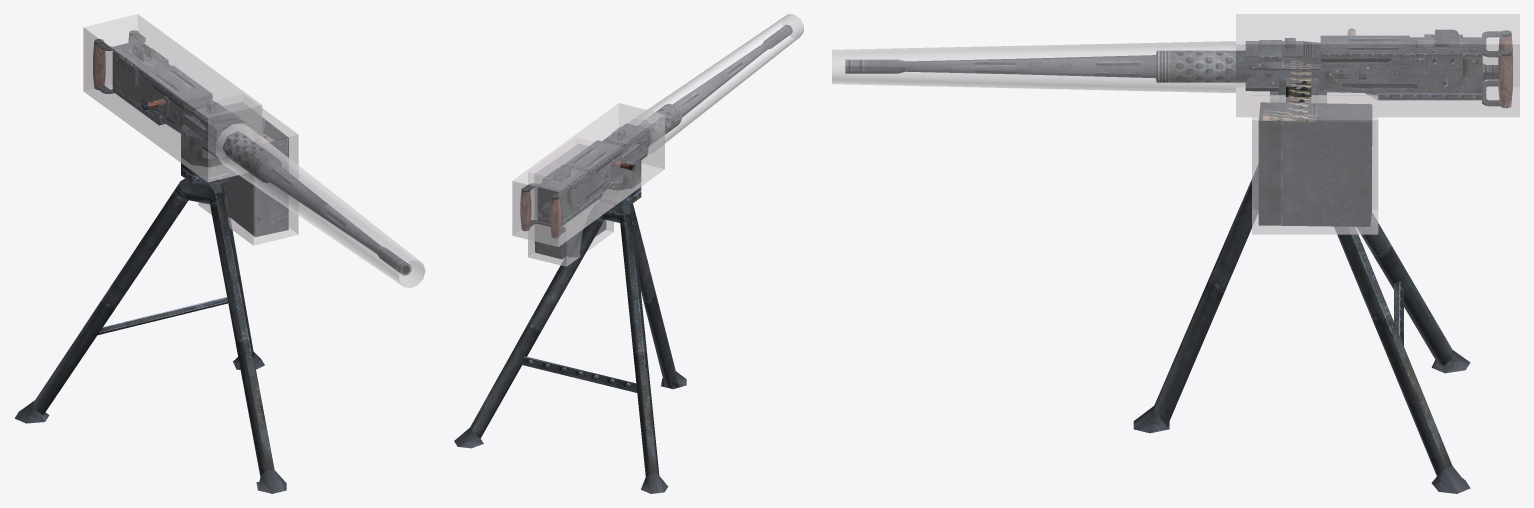
Rendered from E50TriD.glb.
3 views of the same model, side by side, from view 1: azimuth 30°, elevation 25°; view 2: azimuth 150°, elevation 25°; view 3: azimuth 270°, elevation 25° (orthographic). The views are drawn at different scales.
Parts seen in each view (by area): view 1: _E50TriD; view 2: _E50TriD; view 3: _E50TriD.
Boxes of the visible parts, box(x1,y1,x2,y2) form: _E50TriD: box(14, 14, 425, 493); _E50TriD: box(454, 14, 803, 493); _E50TriD: box(832, 14, 1519, 493).
Size of the model in its own units: 1.12 by 1.51 by 2.37.
3 materials, 3 textured.
